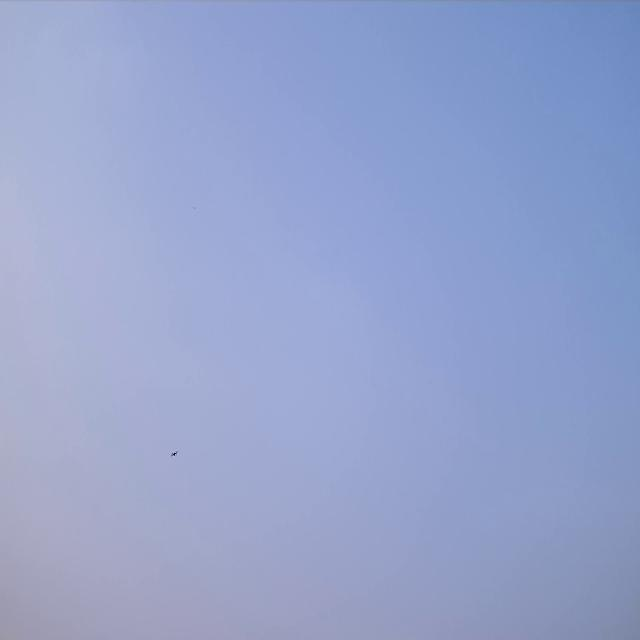UAV: (170, 449, 178, 459)
